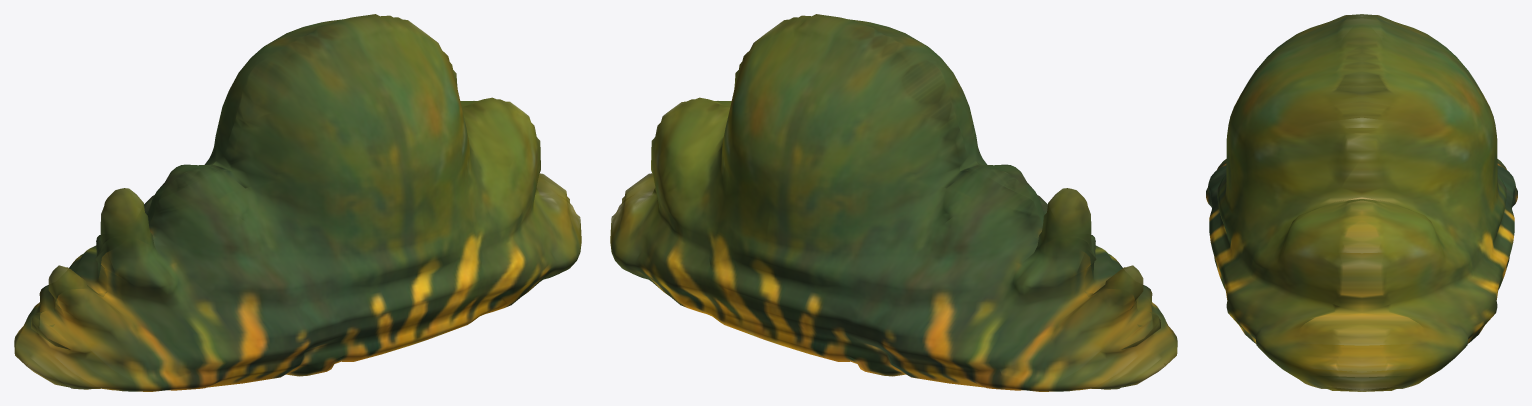
File: 01_rocks_and_bushes_r02_c06.glb
The picture shows the model from 3 angles, left to right: view 1: azimuth 30°, elevation 25°; view 2: azimuth 150°, elevation 25°; view 3: azimuth 270°, elevation 25°; orthographic projection.
Visible parts, largest first — view 1: 01_rocks_and_bushes_r02_c06; view 2: 01_rocks_and_bushes_r02_c06; view 3: 01_rocks_and_bushes_r02_c06.
Boxes of the visible parts, x1,y1,x2,y2 form: 01_rocks_and_bushes_r02_c06: (14,14,581,391); 01_rocks_and_bushes_r02_c06: (610,14,1177,391); 01_rocks_and_bushes_r02_c06: (1206,14,1517,391).
Bounding box in the file's own units: 2.27 × 1.15 × 1.14.
1 material, 1 textured.
